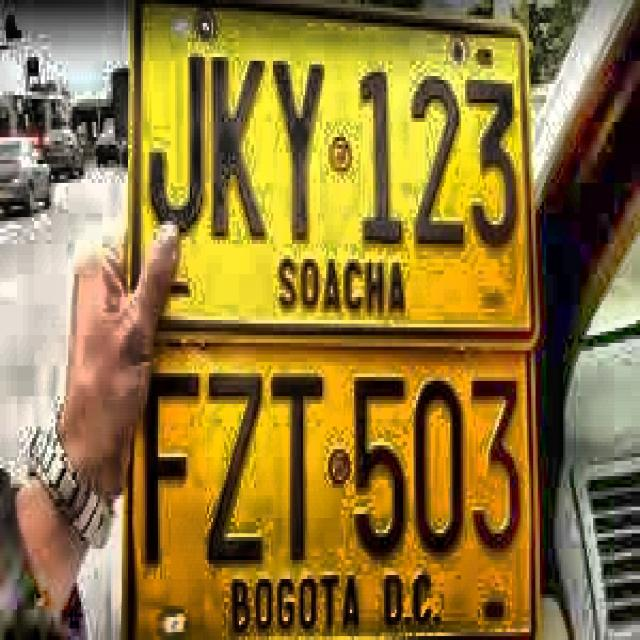plate: (134, 5, 536, 334), (127, 342, 535, 636)
